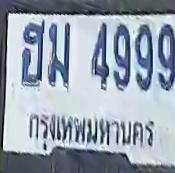4: (90, 22, 109, 90)
9: (135, 23, 155, 91), (113, 24, 130, 90), (159, 22, 175, 90)
A33: (47, 22, 70, 86)
A44: (20, 20, 44, 86)
BKK: (23, 109, 161, 153)
